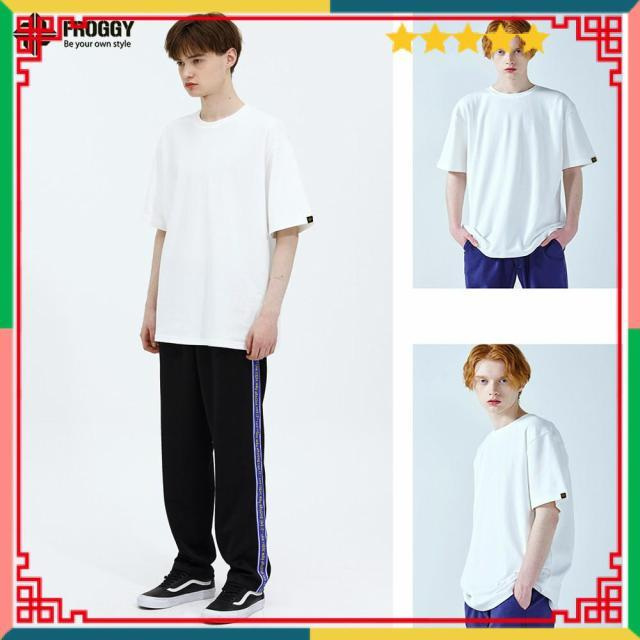Shirt: (154, 99, 321, 348), (436, 82, 598, 258), (468, 412, 578, 608)
